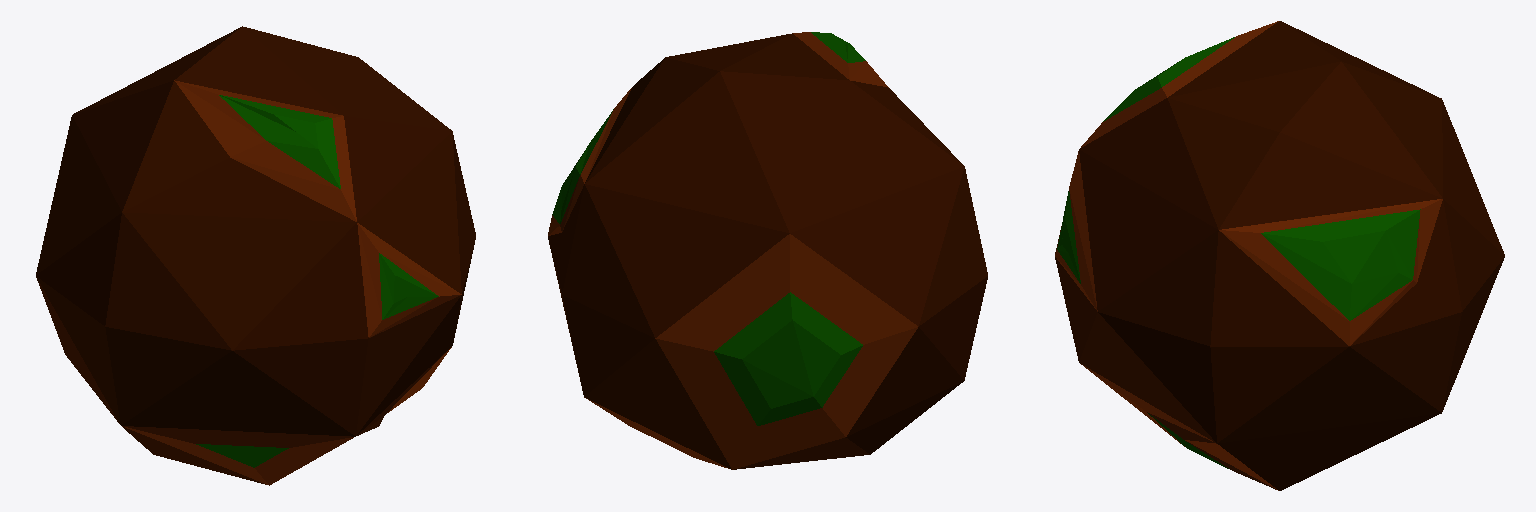
Rendered from Bola02.mtl.obj.
3 views of the same model, side by side, from view 1: azimuth 30°, elevation 25°; view 2: azimuth 150°, elevation 25°; view 3: azimuth 270°, elevation 25° (orthographic).
Parts seen in each view (by area): view 1: Icosphere; view 2: Icosphere; view 3: Icosphere.
Part boxes in pixels (x1,y1,x2,y2): Icosphere: (36, 26, 475, 485); Icosphere: (548, 32, 987, 469); Icosphere: (1055, 21, 1504, 490).
Size of the model in its own units: 1.9 by 1.99 by 2.